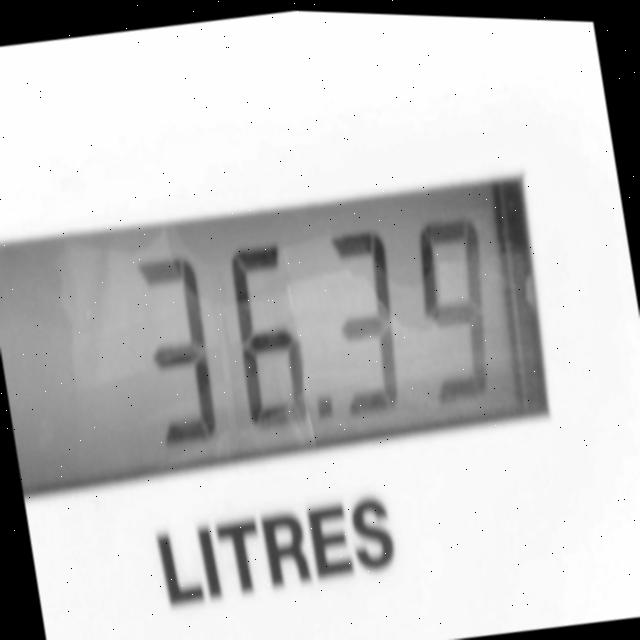.: (310, 381, 342, 428)
3: (122, 238, 238, 458), (314, 213, 417, 443)
6: (215, 234, 324, 444)
9: (398, 202, 511, 408)
